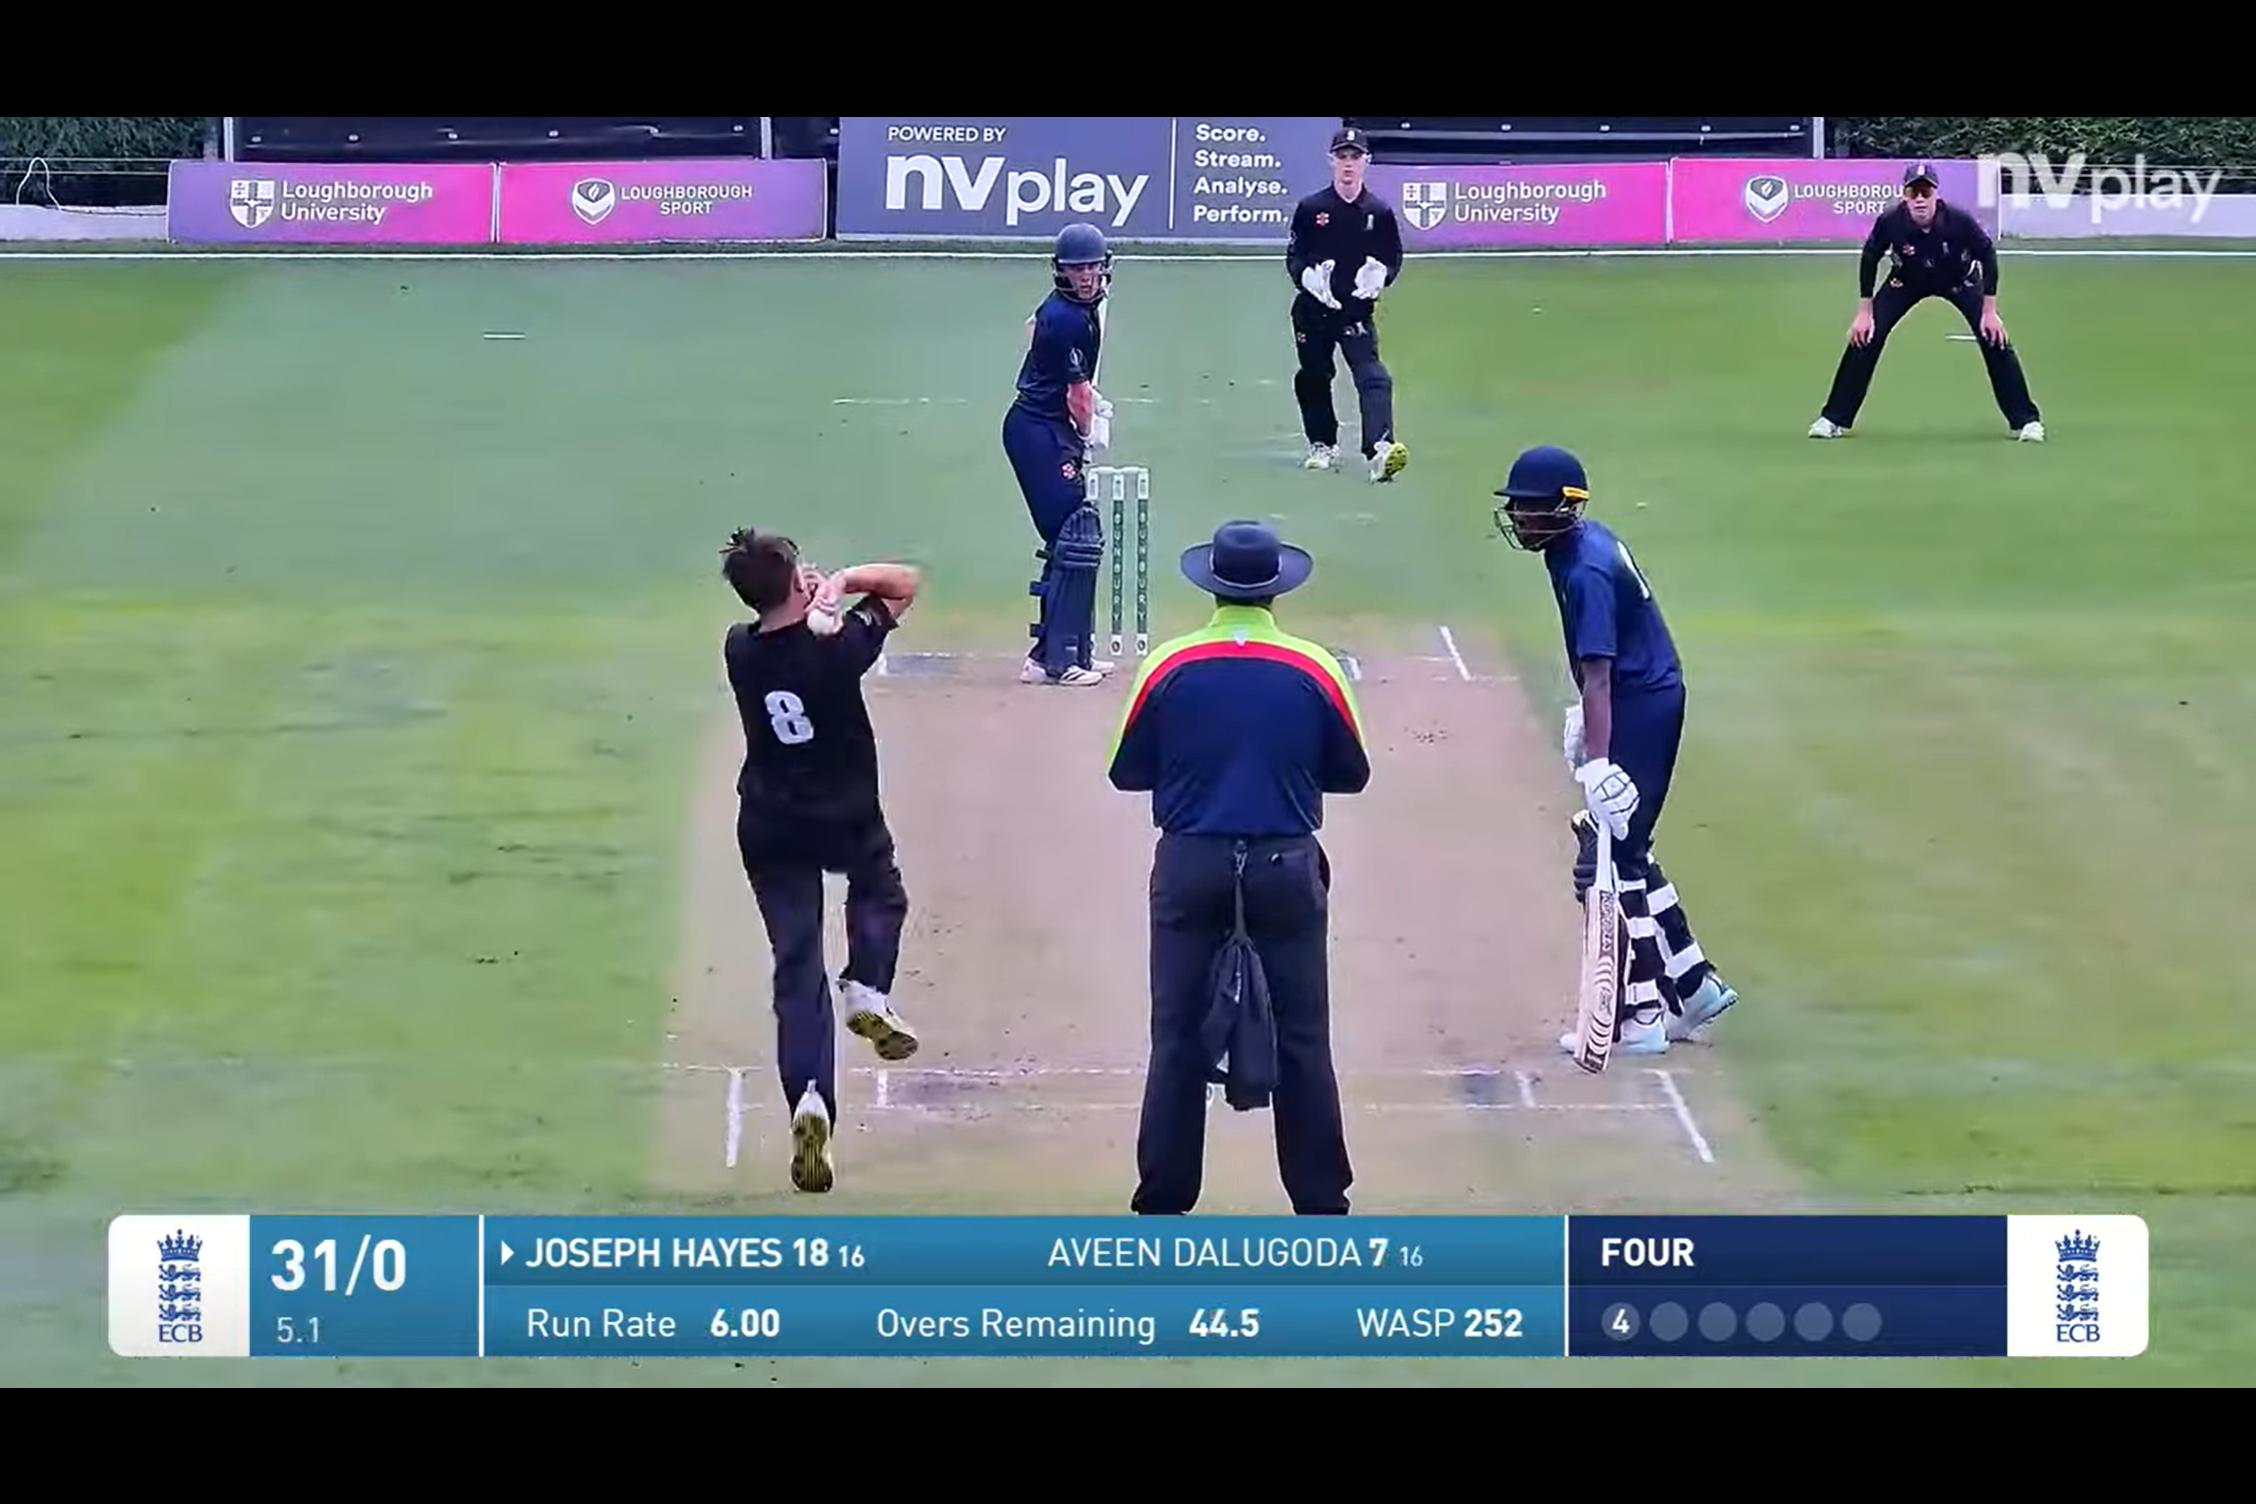batsman: (1012, 222, 1140, 687)
bowler running in: (651, 524, 990, 1205)
non striker: (1432, 423, 1779, 1078)
wicket keeper: (1266, 133, 1412, 500)
